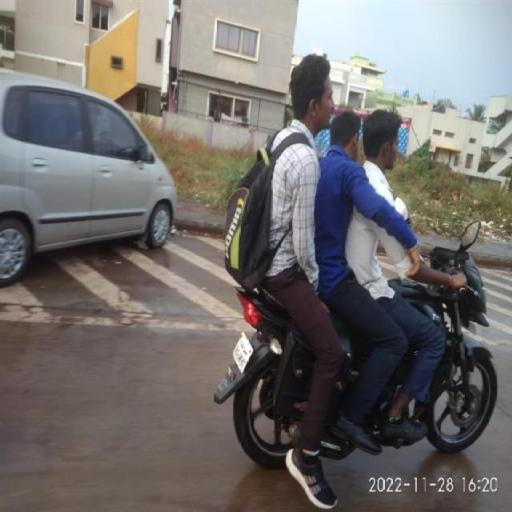tripple riding: (217, 52, 447, 322)
